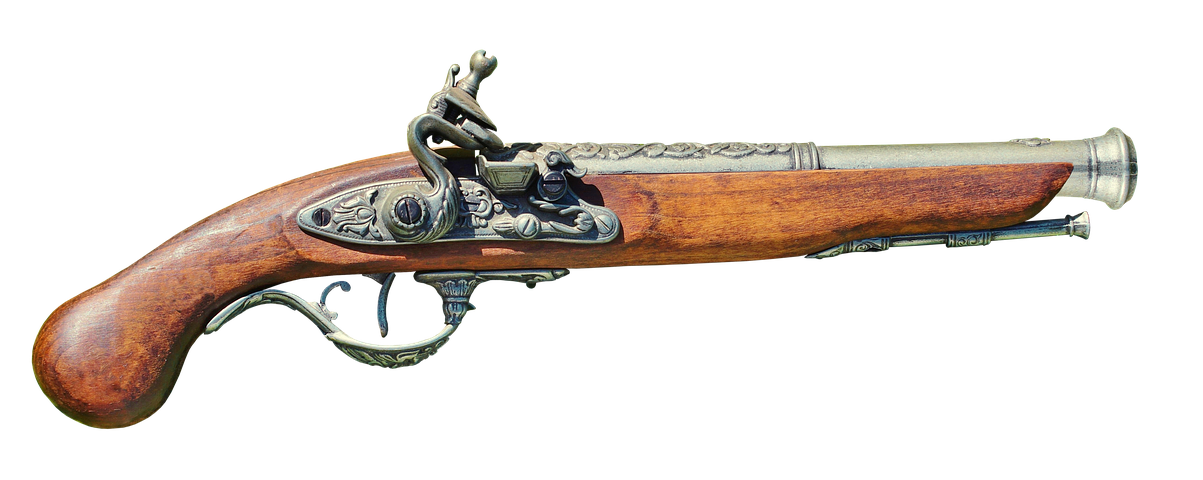gun: (25, 39, 1161, 479)
